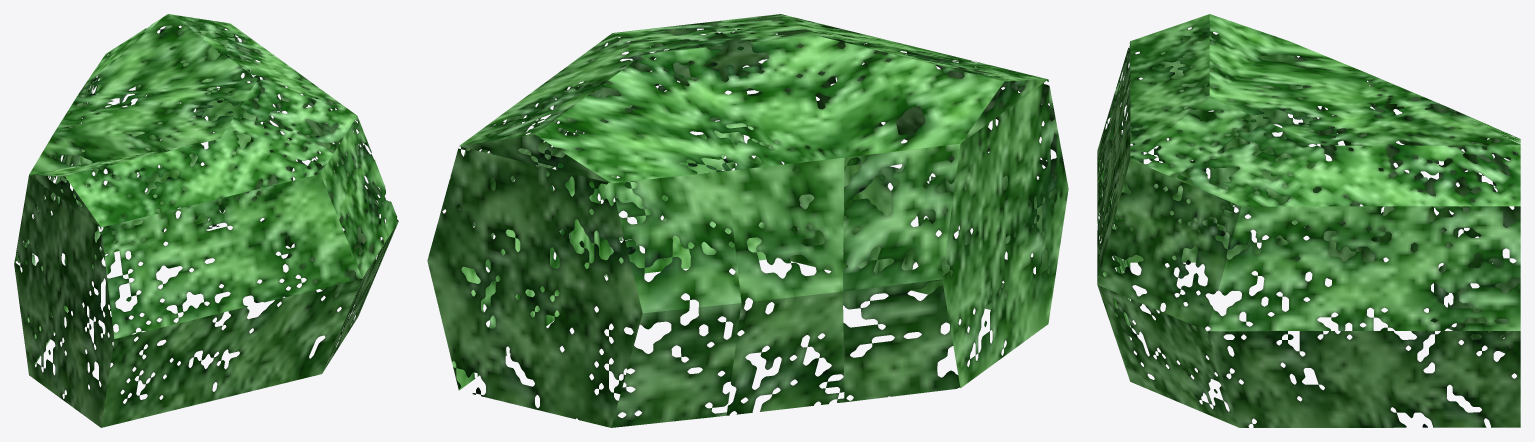
Rendered from bush_round_corner_filled_spring.fbx.
The picture shows the model from 3 angles, left to right: view 1: azimuth 30°, elevation 25°; view 2: azimuth 150°, elevation 25°; view 3: azimuth 270°, elevation 25°; orthographic projection. The views are drawn at different scales.
Visible parts, largest first — view 1: bush_round_corner_filled_spring; view 2: bush_round_corner_filled_spring; view 3: bush_round_corner_filled_spring.
Part boxes in pixels (<box>): bush_round_corner_filled_spring: <box>14,14,398,427</box>; bush_round_corner_filled_spring: <box>427,14,1068,427</box>; bush_round_corner_filled_spring: <box>1097,14,1520,427</box>.
Bounding box in the file's own units: 136 × 87.65 × 135.
Materials: 1 (1 with a texture image).
